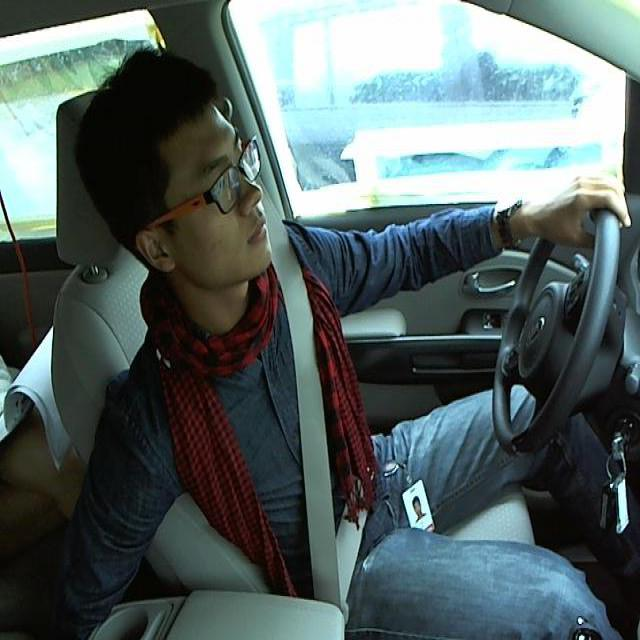seatbelt: (274, 260, 379, 595)
